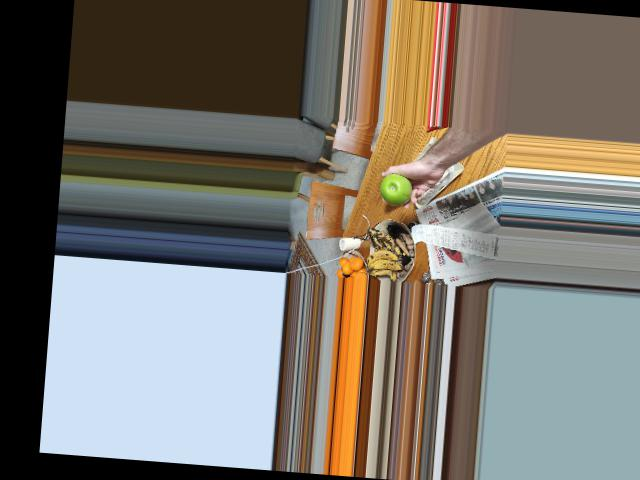apple: (377, 170, 414, 204)
